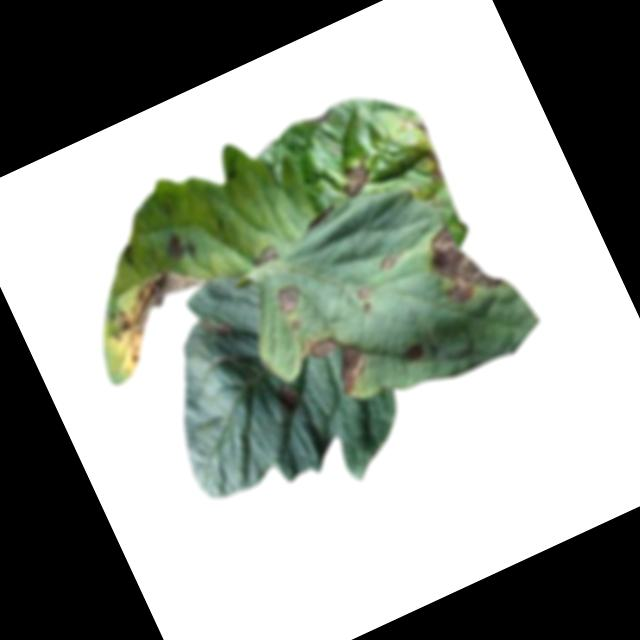Early_blight: (95, 256, 219, 367), (417, 209, 508, 311), (299, 321, 376, 404), (334, 159, 377, 199), (270, 280, 306, 319), (161, 226, 197, 263), (270, 379, 305, 416), (244, 239, 282, 272), (199, 311, 232, 345), (419, 147, 449, 184), (350, 281, 381, 315), (371, 244, 404, 273)
